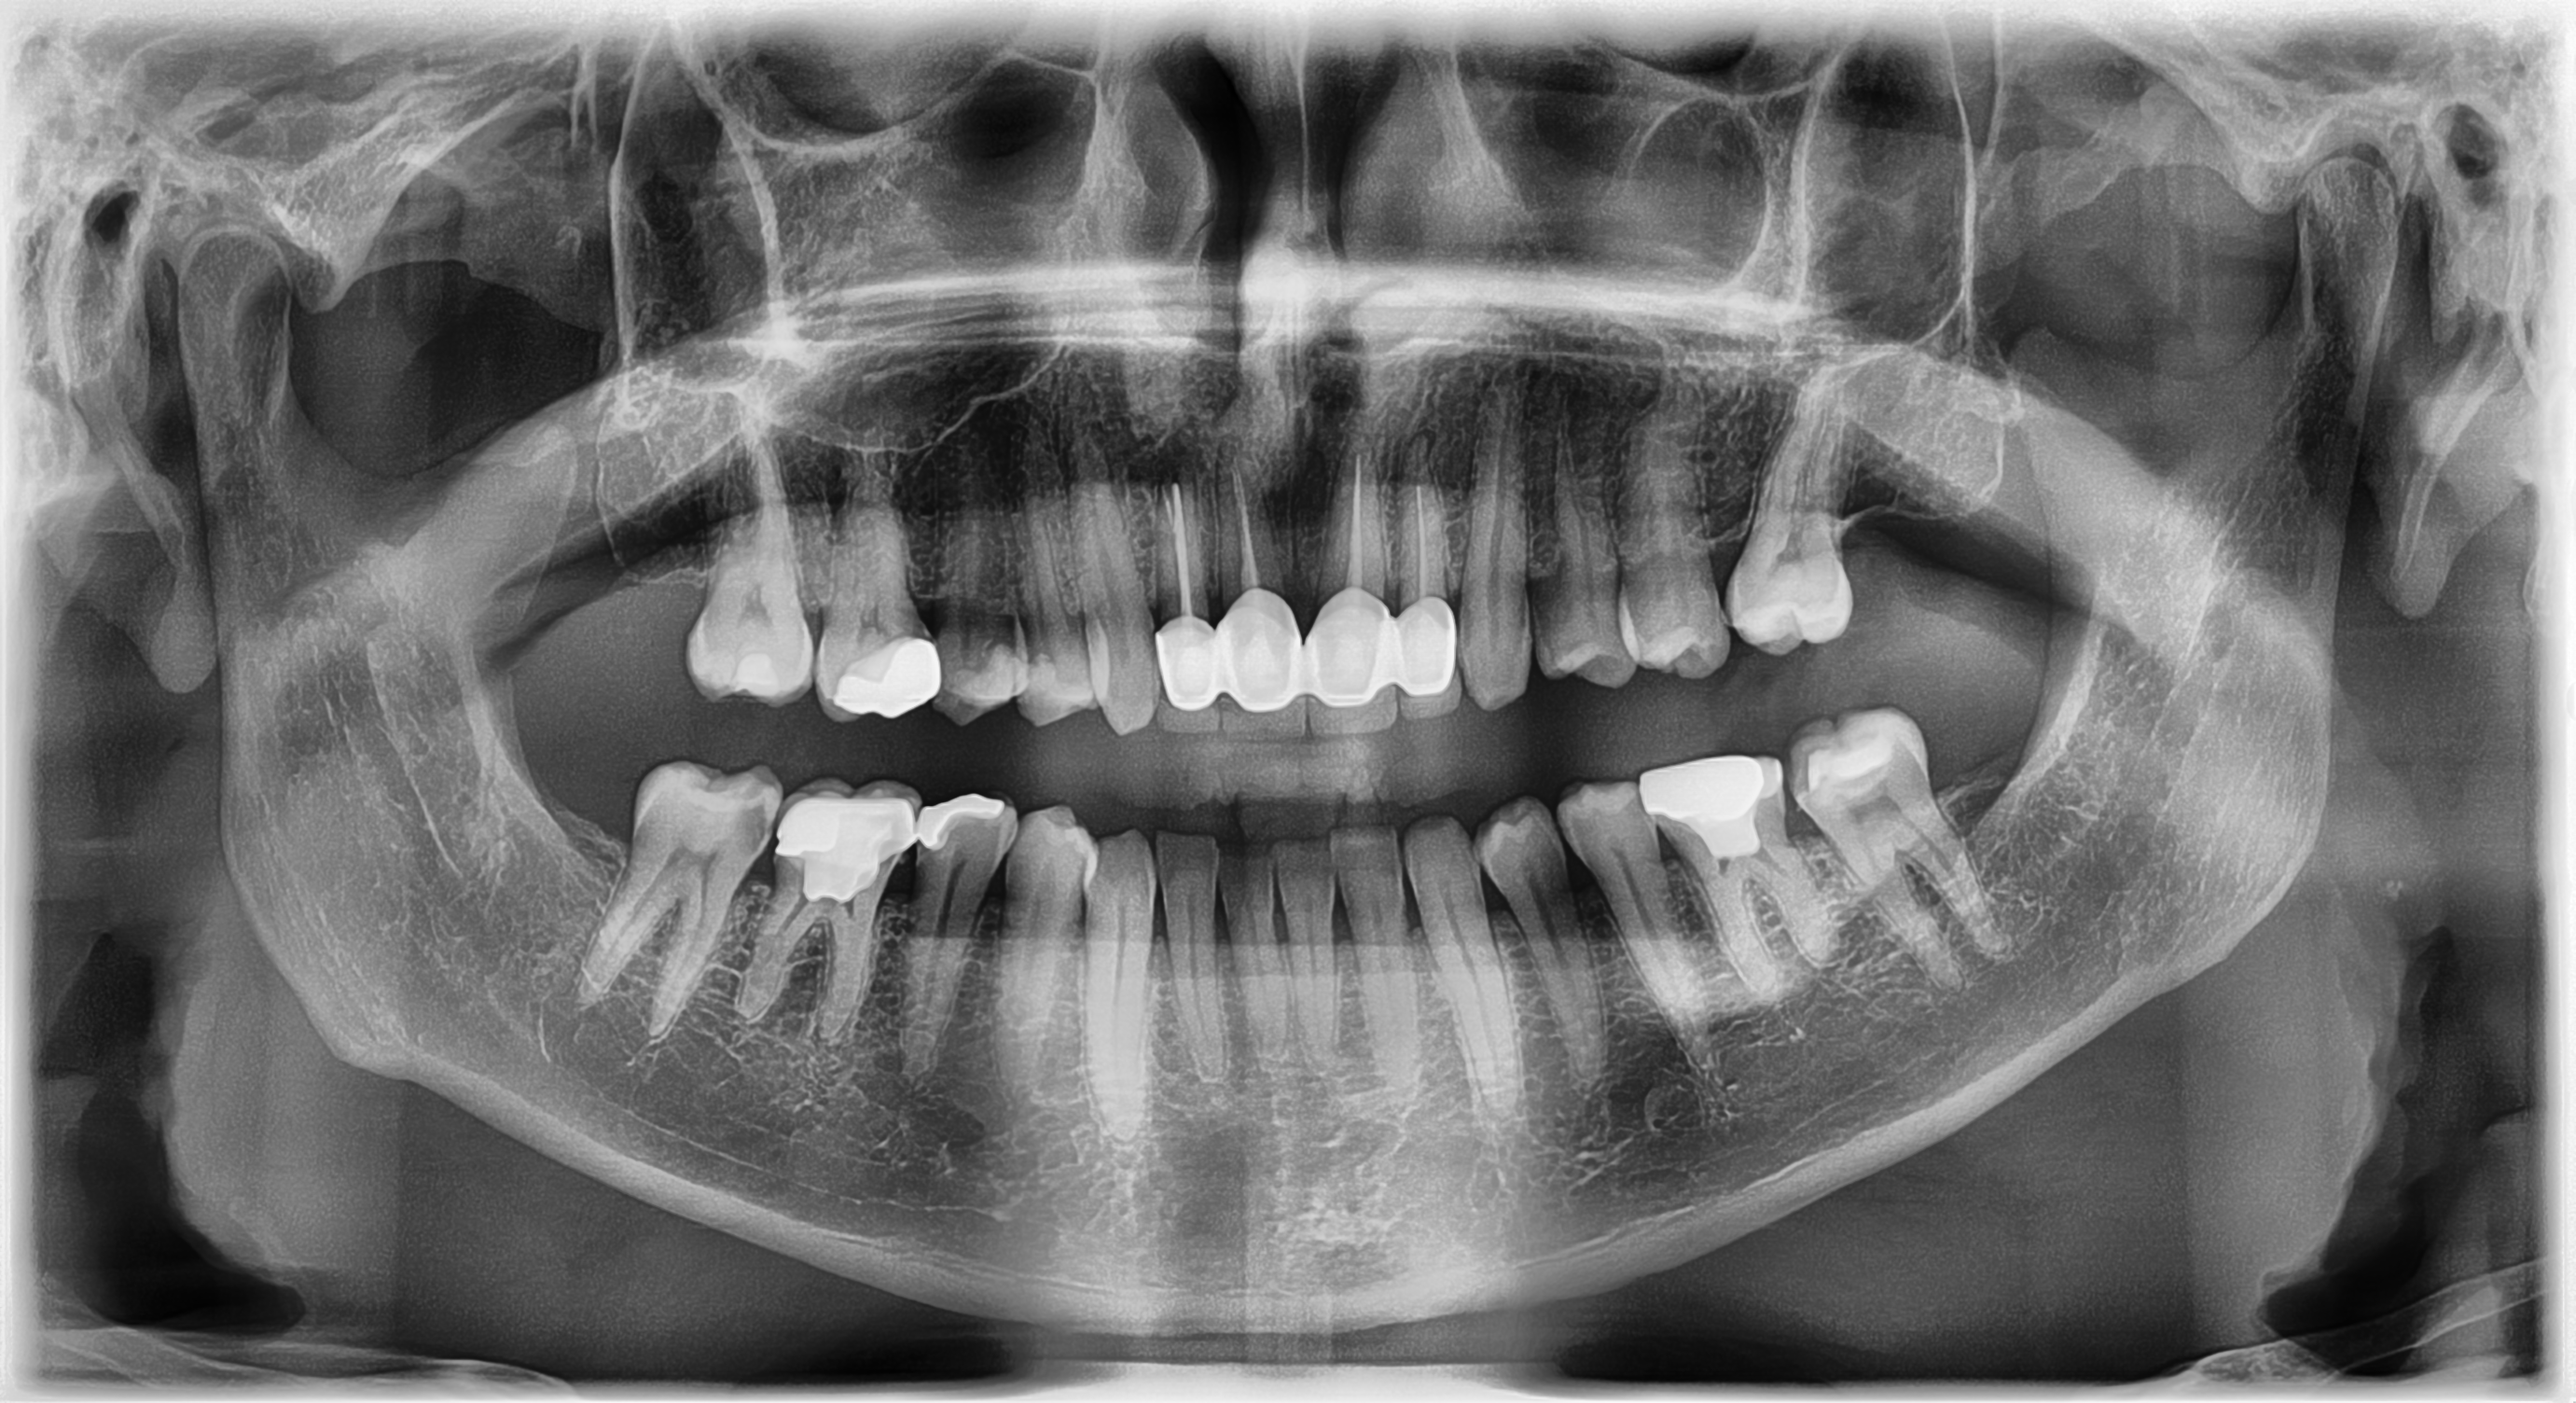tratamiento_conducto: (1210, 448, 1310, 738), (1310, 435, 1397, 752), (1141, 454, 1231, 752), (1383, 415, 1462, 712)
